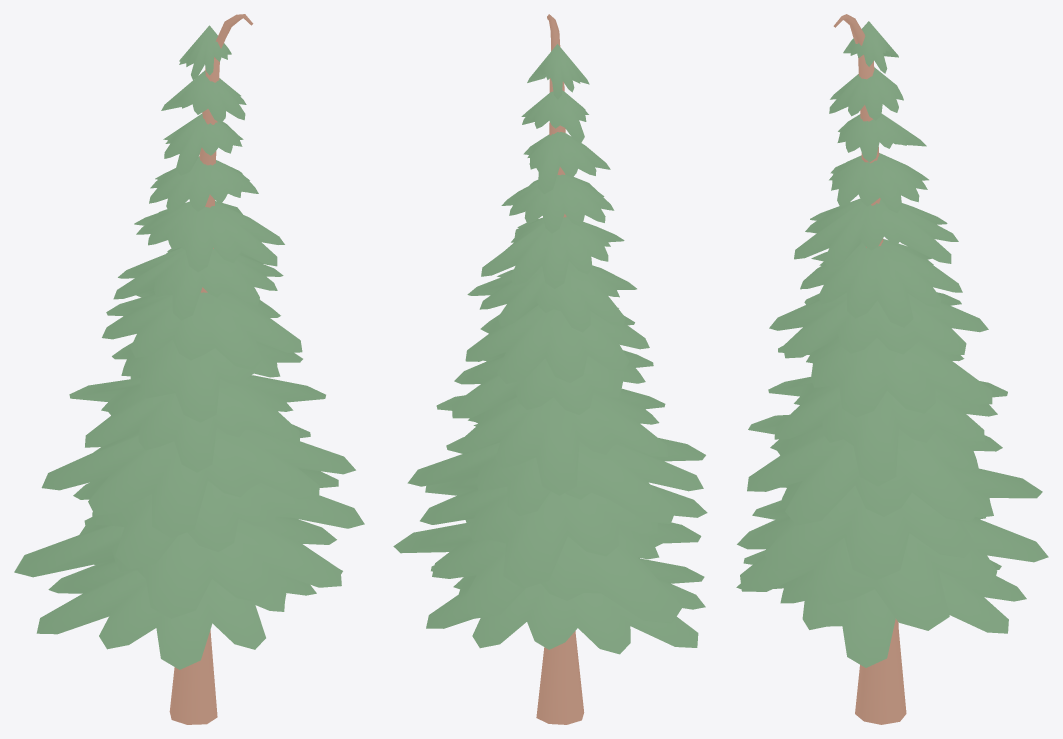
File: Blender_Hemlock_1.glb
3 renders of one model, left to right at view 1: azimuth 30°, elevation 25°; view 2: azimuth 150°, elevation 25°; view 3: azimuth 270°, elevation 25°, orthographic. The views are drawn at different scales.
Visible parts, largest first — view 1: Blender_Hemlock_1; view 2: Blender_Hemlock_1; view 3: Blender_Hemlock_1.
Boxes of the visible parts, x1,y1,x2,y2 form: Blender_Hemlock_1: (14, 14, 364, 724); Blender_Hemlock_1: (393, 14, 707, 724); Blender_Hemlock_1: (736, 14, 1048, 724).
Bounding box in the file's own units: 18.85 × 42.39 × 16.84.
